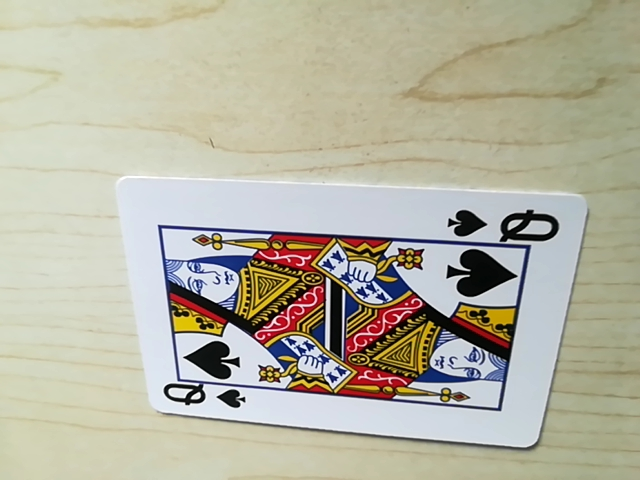ht q: (446, 202, 556, 245), (158, 379, 247, 415)
